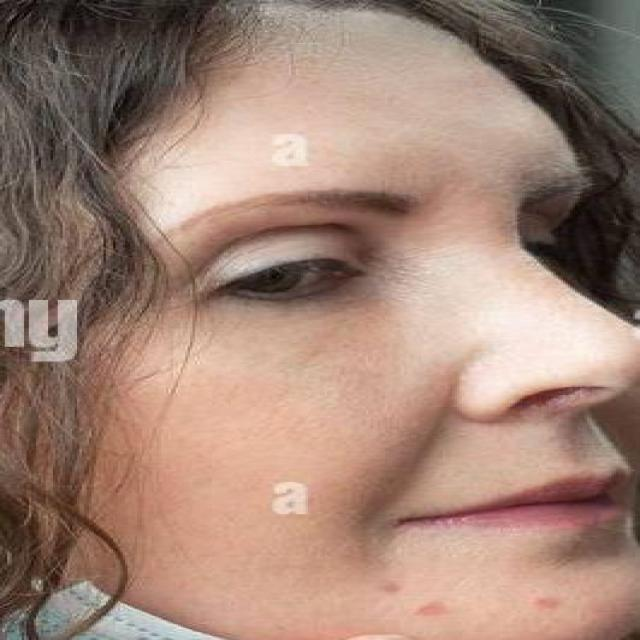Pimples: (368, 577, 407, 599), (412, 598, 448, 620), (539, 593, 568, 619)
